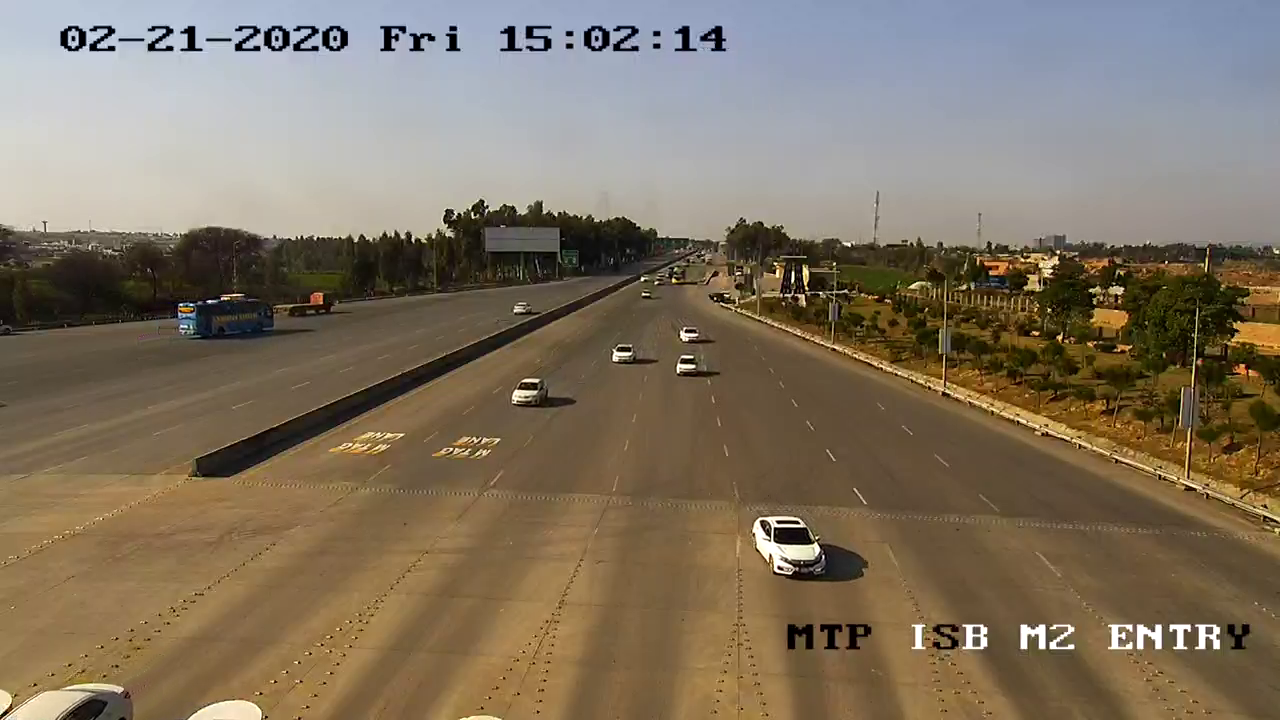f1: (737, 501, 834, 584), (502, 372, 557, 414)
